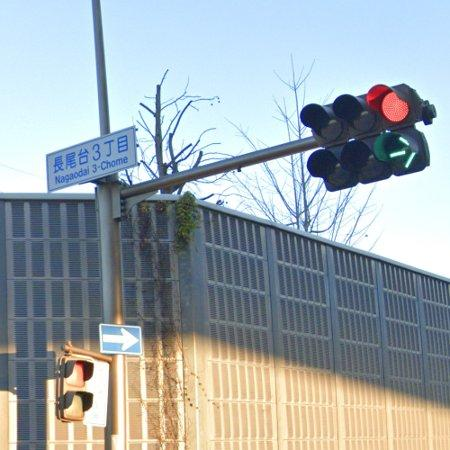traffic lights: (308, 127, 431, 191)
